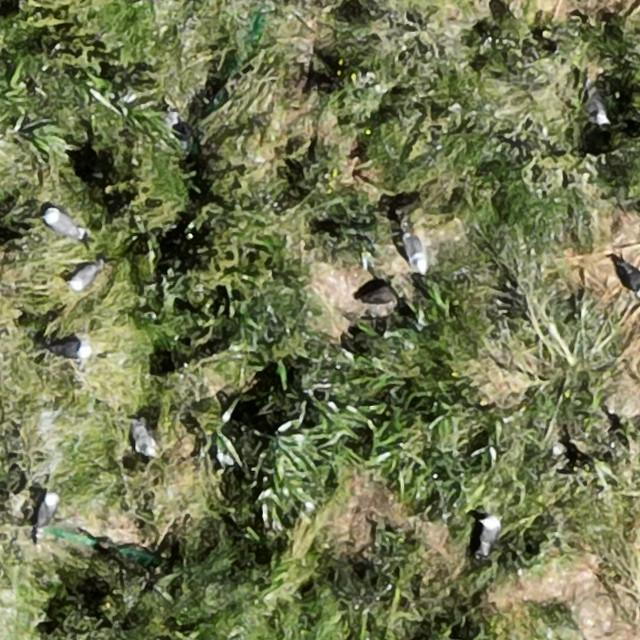umineko: (44, 210, 79, 237), (403, 231, 426, 270), (70, 264, 99, 290), (479, 514, 499, 550), (51, 340, 88, 358), (39, 494, 58, 528), (134, 424, 154, 456), (589, 91, 608, 124), (624, 264, 639, 294)
